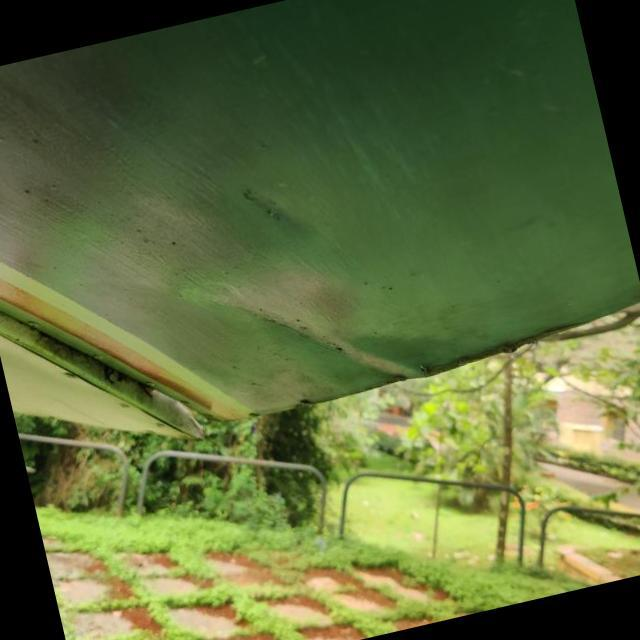Dent: (187, 229, 458, 449), (213, 146, 337, 263)
